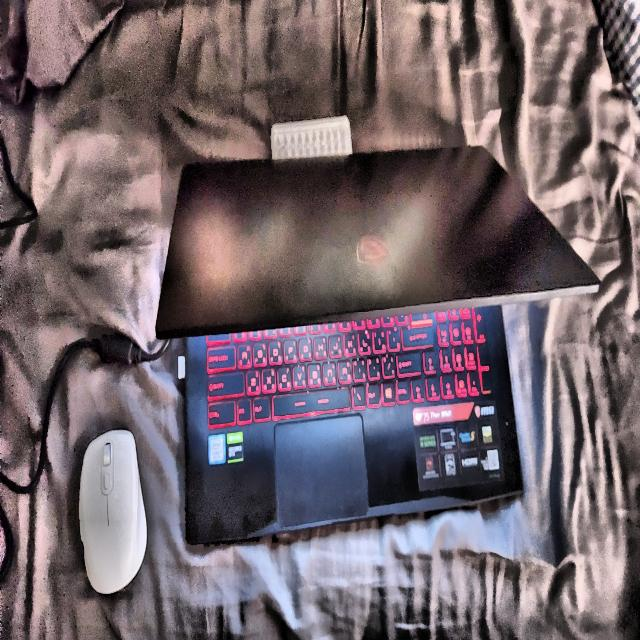laptop: (156, 147, 599, 544)
